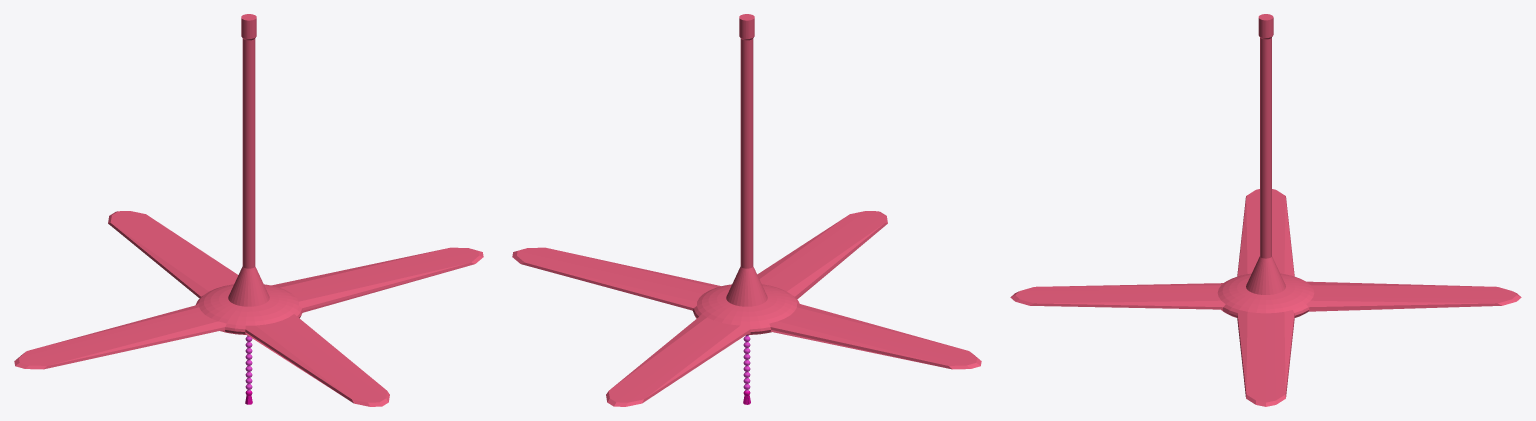
Rendered from Ventilator_LowPoly.fbx.
The picture shows the model from 3 angles, left to right: view 1: azimuth 30°, elevation 25°; view 2: azimuth 150°, elevation 25°; view 3: azimuth 270°, elevation 25°; orthographic projection. The views are drawn at different scales.
Parts seen in each view (by area): view 1: Circle.001; view 2: Circle.001; view 3: Circle.001.
Part boxes in pixels (left/top/right/bottom): Circle.001: left=14, top=14, right=483, bottom=406; Circle.001: left=512, top=14, right=981, bottom=406; Circle.001: left=1010, top=14, right=1521, bottom=406.
Bounding box in the file's own units: 24.05 × 19.01 × 23.71.
